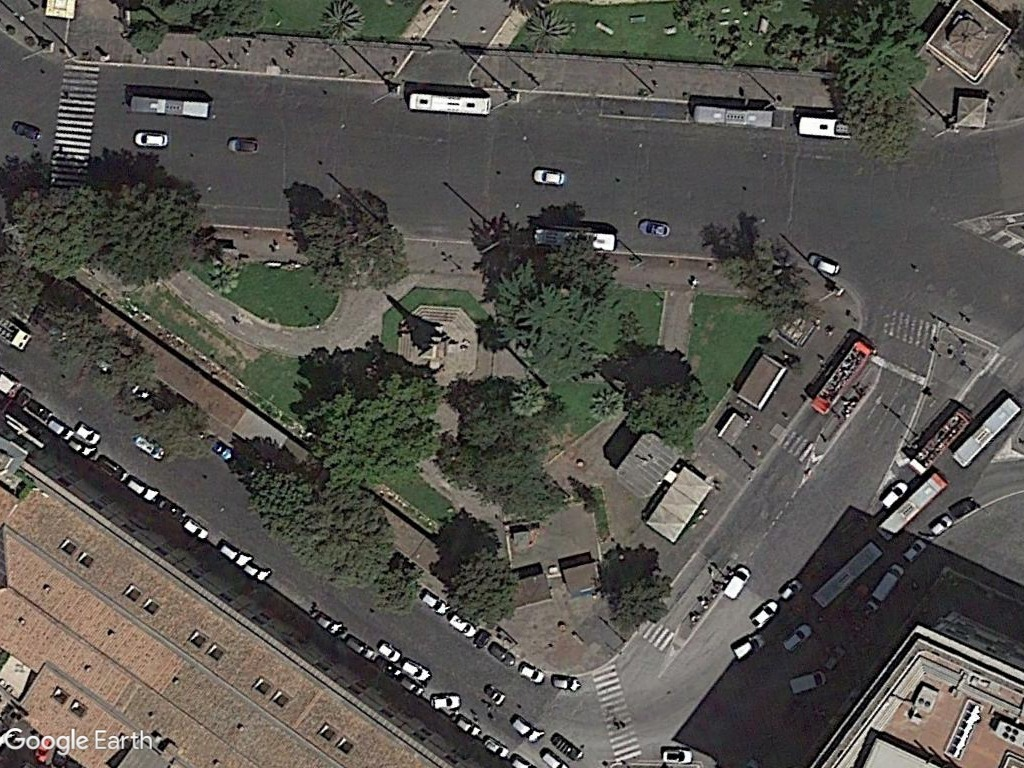bus: (871, 461, 951, 543), (952, 385, 1021, 474), (812, 531, 884, 612), (531, 220, 622, 258), (124, 89, 213, 123), (401, 87, 499, 116), (691, 101, 781, 131)
car: (120, 471, 163, 505), (127, 431, 170, 463), (397, 651, 433, 689), (305, 603, 344, 638), (779, 620, 819, 654), (484, 635, 520, 672), (507, 712, 545, 747), (339, 632, 378, 665), (877, 475, 911, 512), (177, 512, 215, 544), (217, 534, 251, 569), (43, 412, 78, 446), (6, 117, 50, 143), (804, 251, 846, 278), (515, 657, 551, 688), (71, 417, 106, 448), (427, 690, 468, 715), (416, 588, 451, 617), (528, 164, 572, 187), (634, 216, 676, 240), (129, 128, 174, 150), (373, 638, 407, 666), (658, 745, 699, 768), (225, 135, 266, 155), (550, 673, 585, 693)
van: (716, 559, 752, 604), (747, 590, 785, 631), (784, 663, 830, 696), (730, 630, 768, 661)
